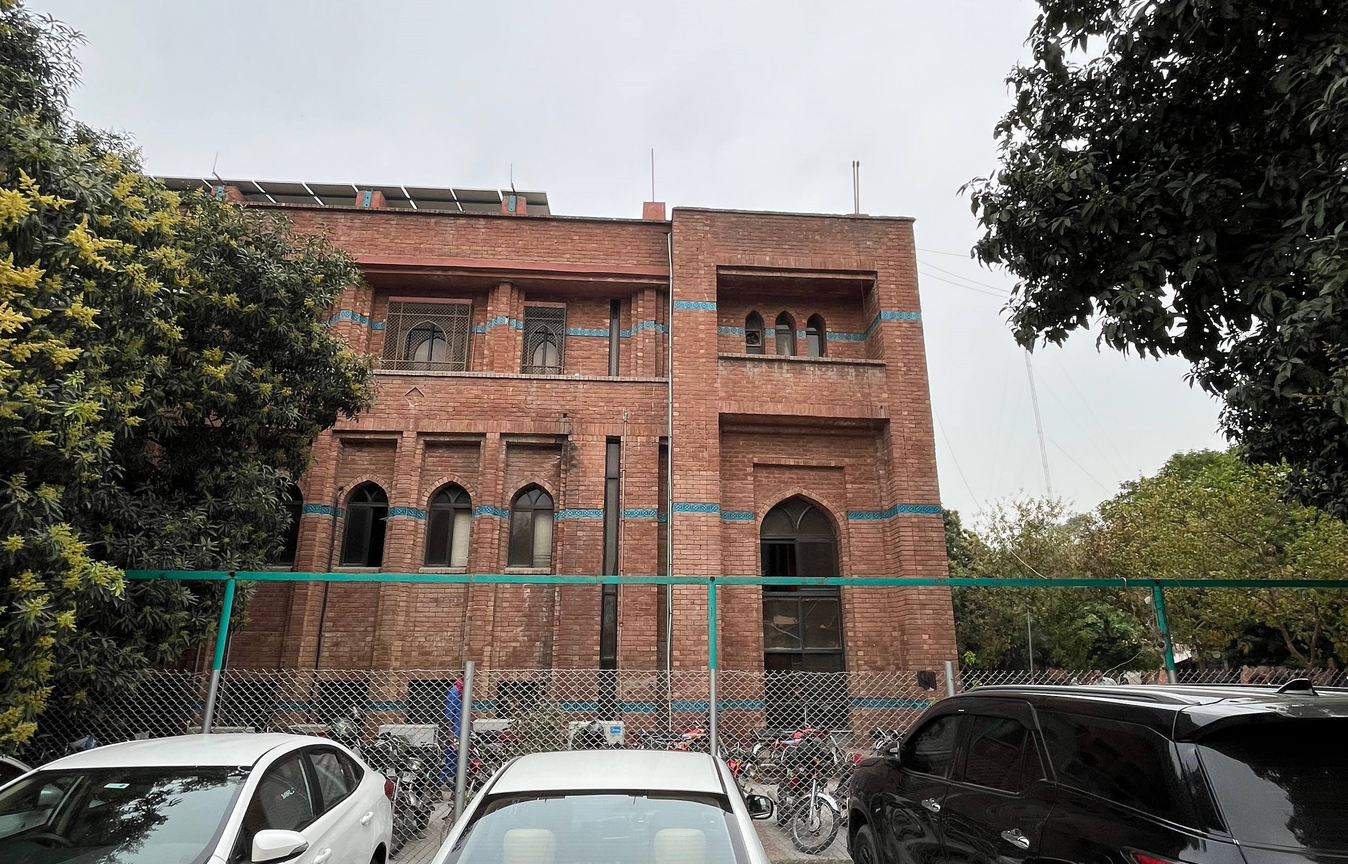Block D: (4, 145, 970, 748)
